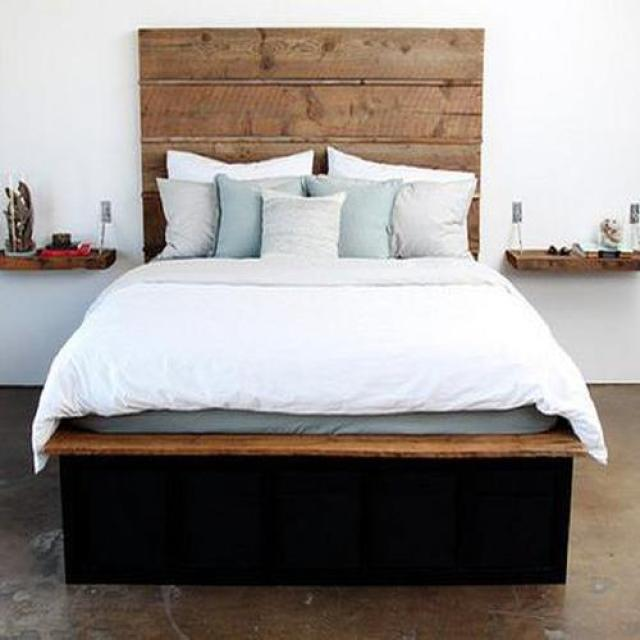bed: (32, 28, 608, 589)
